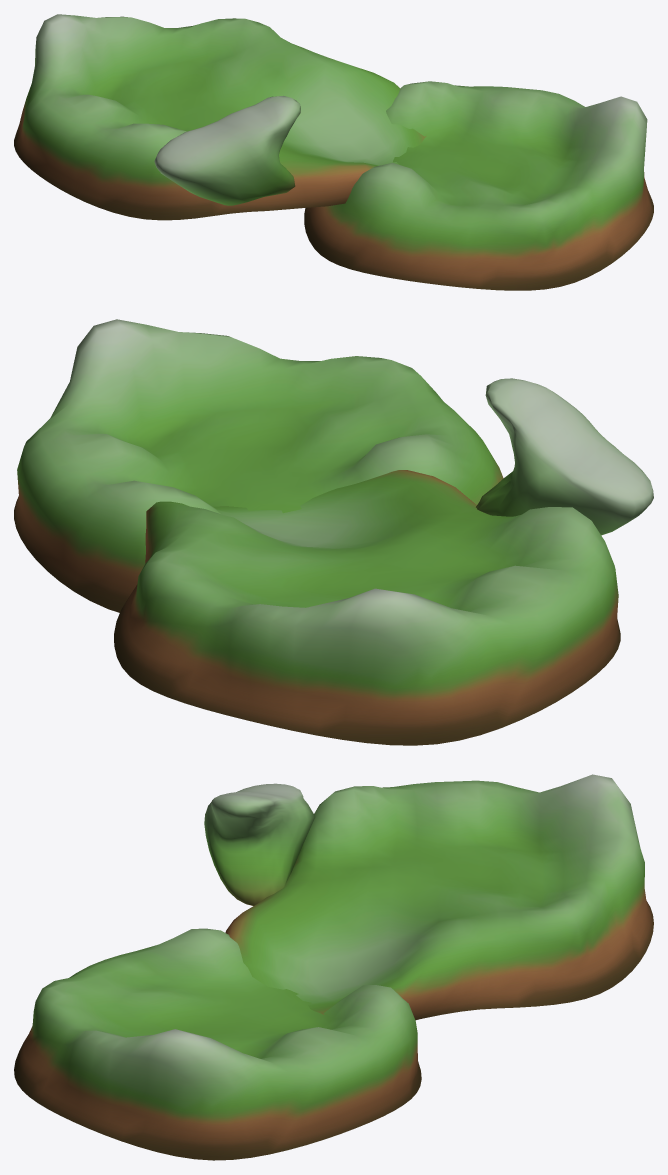
Rendered from Ground02.fbx.
3 views of the same model, one above another, from view 1: azimuth 30°, elevation 25°; view 2: azimuth 150°, elevation 25°; view 3: azimuth 270°, elevation 25° (orthographic). The views are drawn at different scales.
Visible parts, largest first — view 1: pCube7, pCube2, pCube4; view 2: pCube2, pCube7, pCube4; view 3: pCube2, pCube7, pCube4.
Boxes of the visible parts, x1,y1,x2,y2 form: pCube7: [304, 81, 653, 290]; pCube2: [14, 14, 426, 220]; pCube4: [154, 96, 300, 205]; pCube2: [114, 470, 620, 745]; pCube7: [14, 319, 503, 612]; pCube4: [476, 378, 653, 535]; pCube2: [225, 774, 653, 1020]; pCube7: [14, 928, 421, 1160]; pCube4: [204, 783, 315, 905].
Size of the model in its own units: 550 by 166 by 549.
